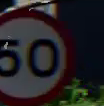Speed limit: (0, 9, 74, 101)
